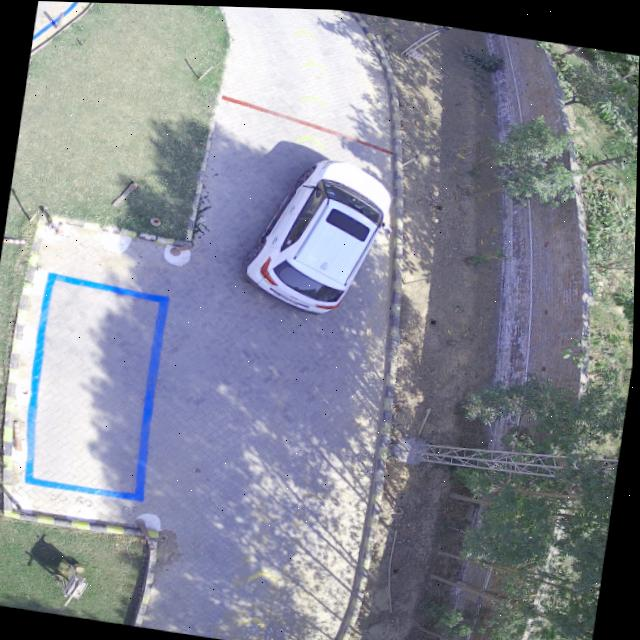car: (245, 157, 392, 312)
